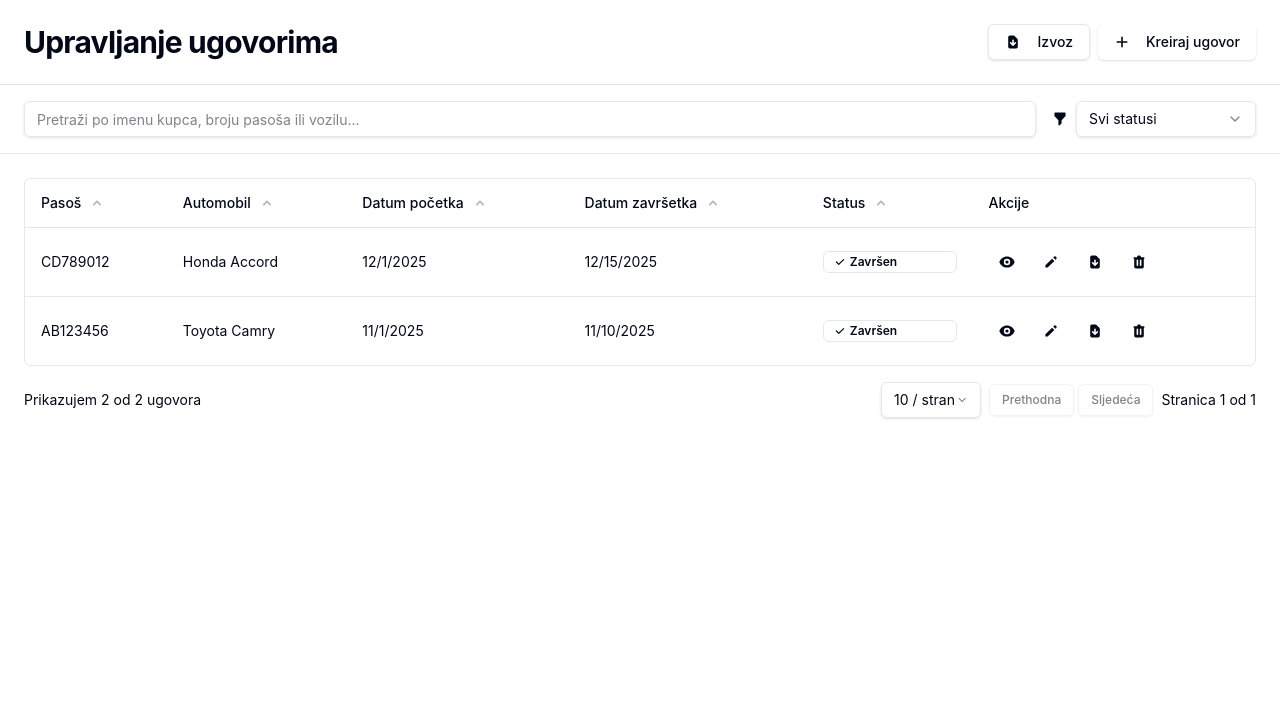
Scenario: ContractsPage › should open delete confirmation dialog
The width and height of the screenshot is (1280, 720).
// Find and click delete button by title attribute
Click the button titled "obriši ugovor" in the row of "CD789012".
click(1138, 262)  # box [1120, 244, 1156, 280]
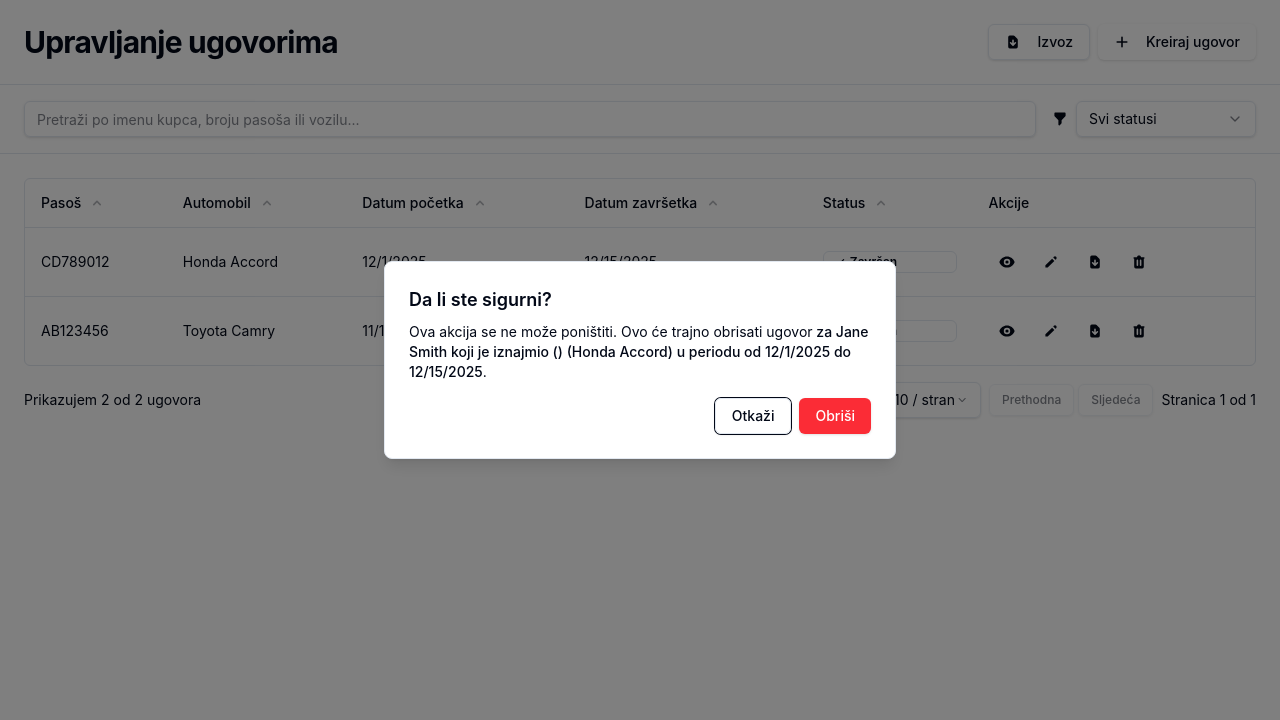
expect the heading "Da li ste sigurni?" is shown: met, box [409, 289, 552, 310]
